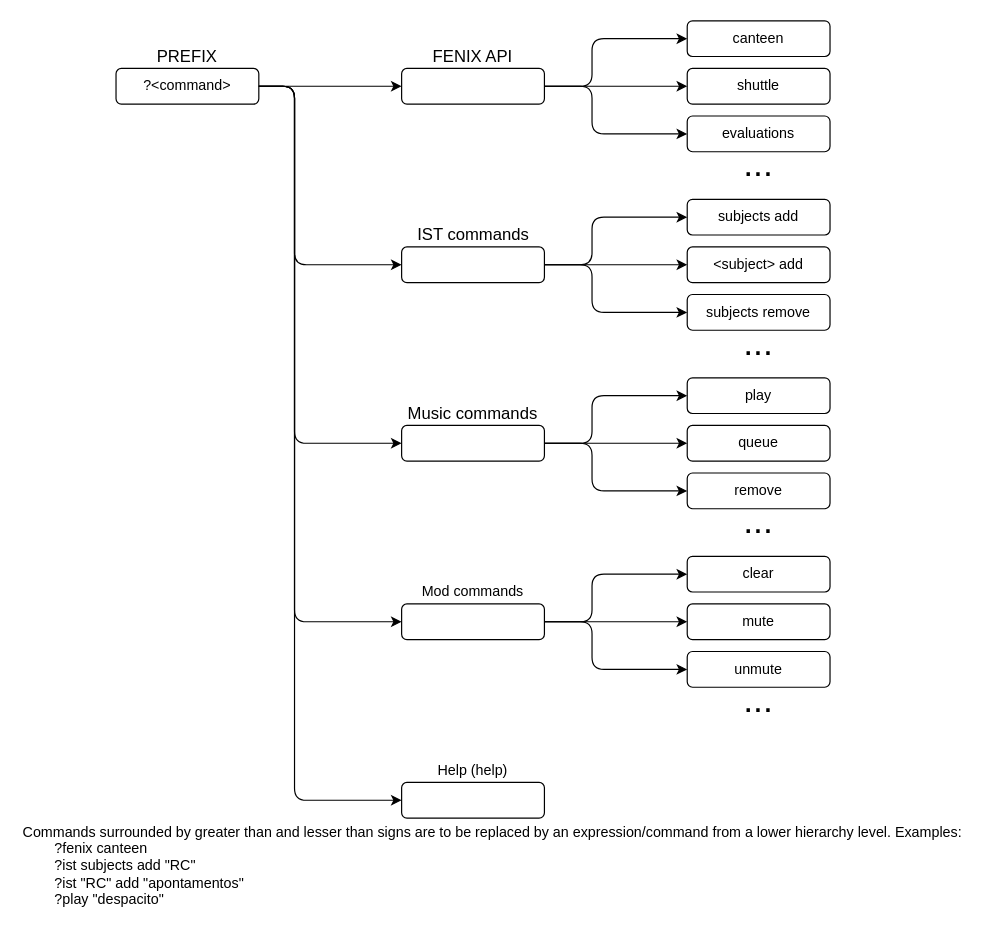
This 992x934 diagram has some shape labels left out. The centre of each missing label's shape, as x and y in pixels:
"<moderation>" goes at pixel 472 621.
"<music>" goes at pixel 472 442.
"fenix" goes at pixel 472 85.
"help" goes at pixel 472 799.
"ist" goes at pixel 472 264.
